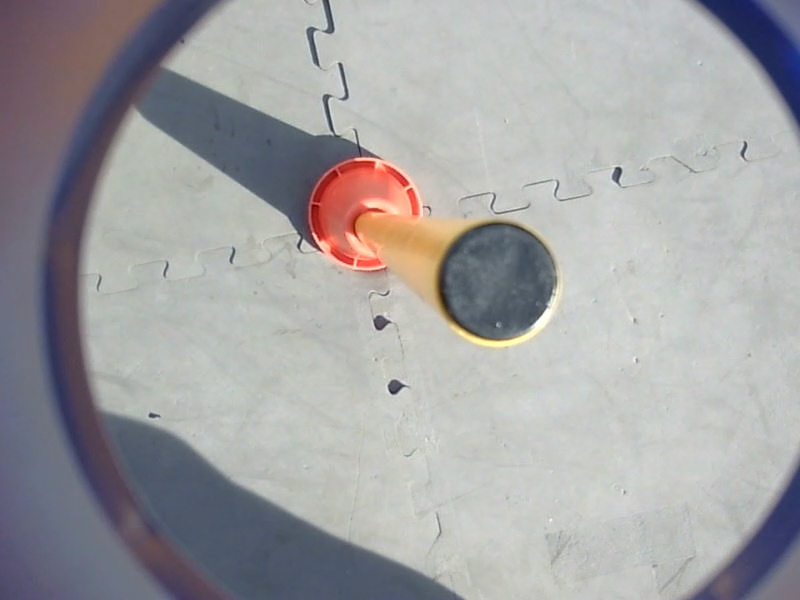tip: (428, 214, 568, 356)
